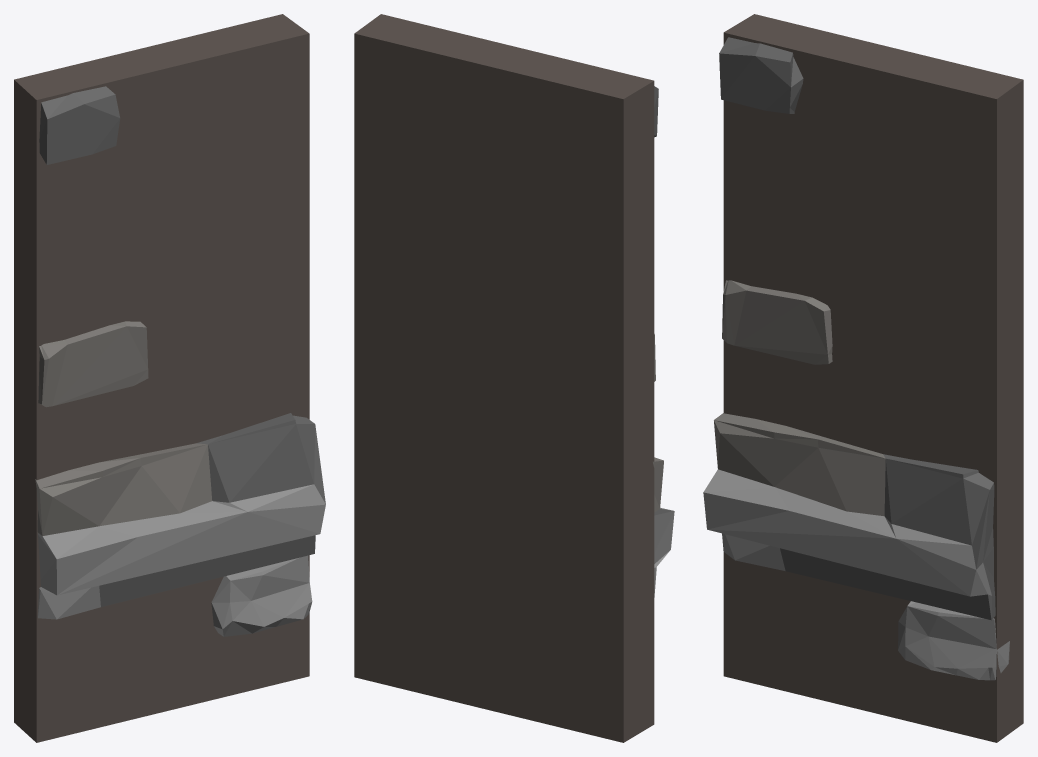
The model's file is MCastle_SquareWalls_Border_02.FBX.
The picture shows the model from 3 angles, left to right: view 1: azimuth 30°, elevation 25°; view 2: azimuth 150°, elevation 25°; view 3: azimuth 330°, elevation 25°; orthographic projection.
Visible parts, largest first — view 1: MCastle_SquareWalls_Border_02_LOD0; view 2: MCastle_SquareWalls_Border_02_LOD0; view 3: MCastle_SquareWalls_Border_02_LOD0.
Boxes of the visible parts, left/top/right/bottom form: MCastle_SquareWalls_Border_02_LOD0: left=14, top=14, right=325, bottom=742; MCastle_SquareWalls_Border_02_LOD0: left=354, top=14, right=674, bottom=742; MCastle_SquareWalls_Border_02_LOD0: left=703, top=14, right=1023, bottom=742.
Size of what is drawn, in the model's own units: 2.03 by 4.5 by 0.5947.
